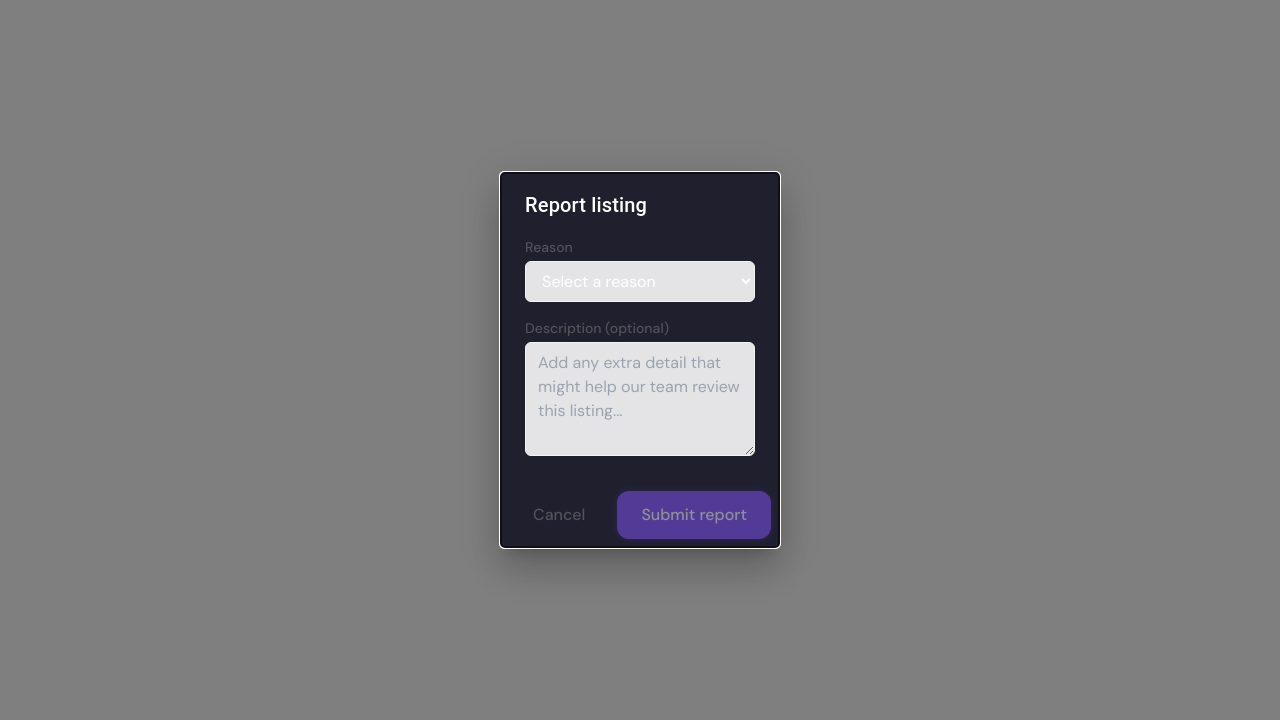
Test: ReportListingDialog › shows the inline success message and a Close button on a successful submit, without auto-closing
Select "Other" in the dropdown labelled "Reason": (640, 282) [525, 261, 755, 302]
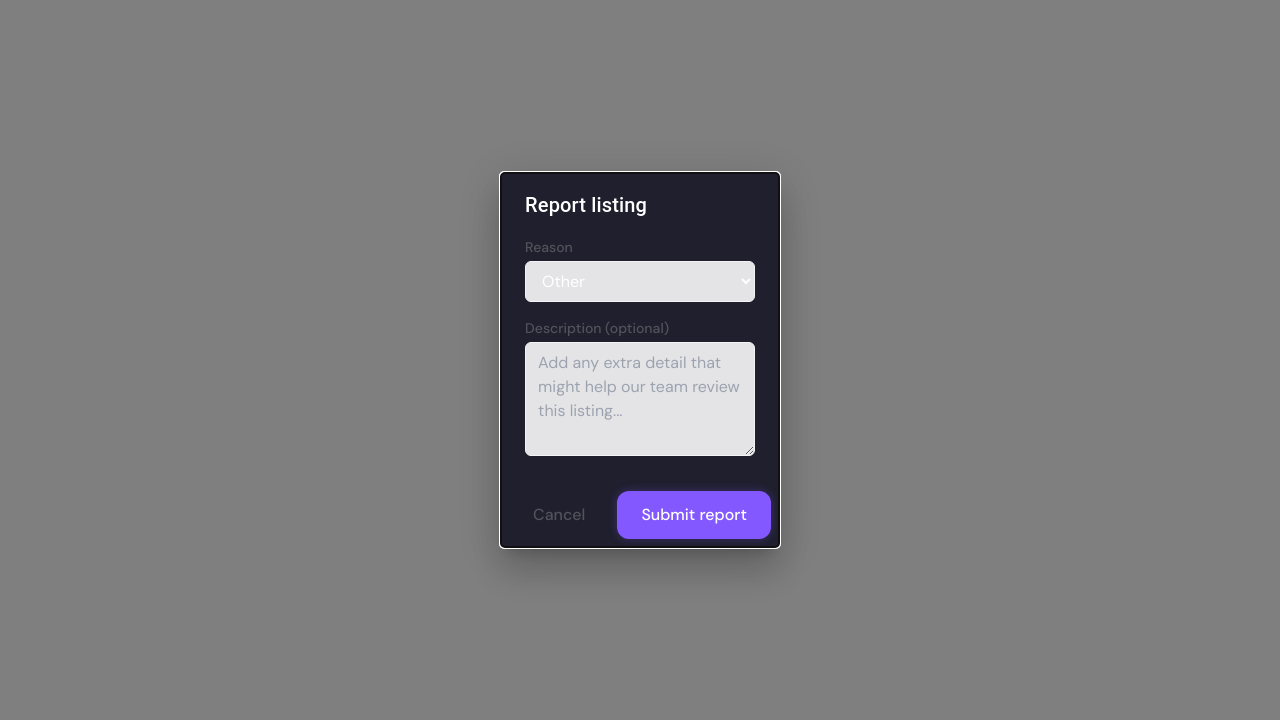
Click the button "Submit report": (694, 515) [617, 491, 771, 539]
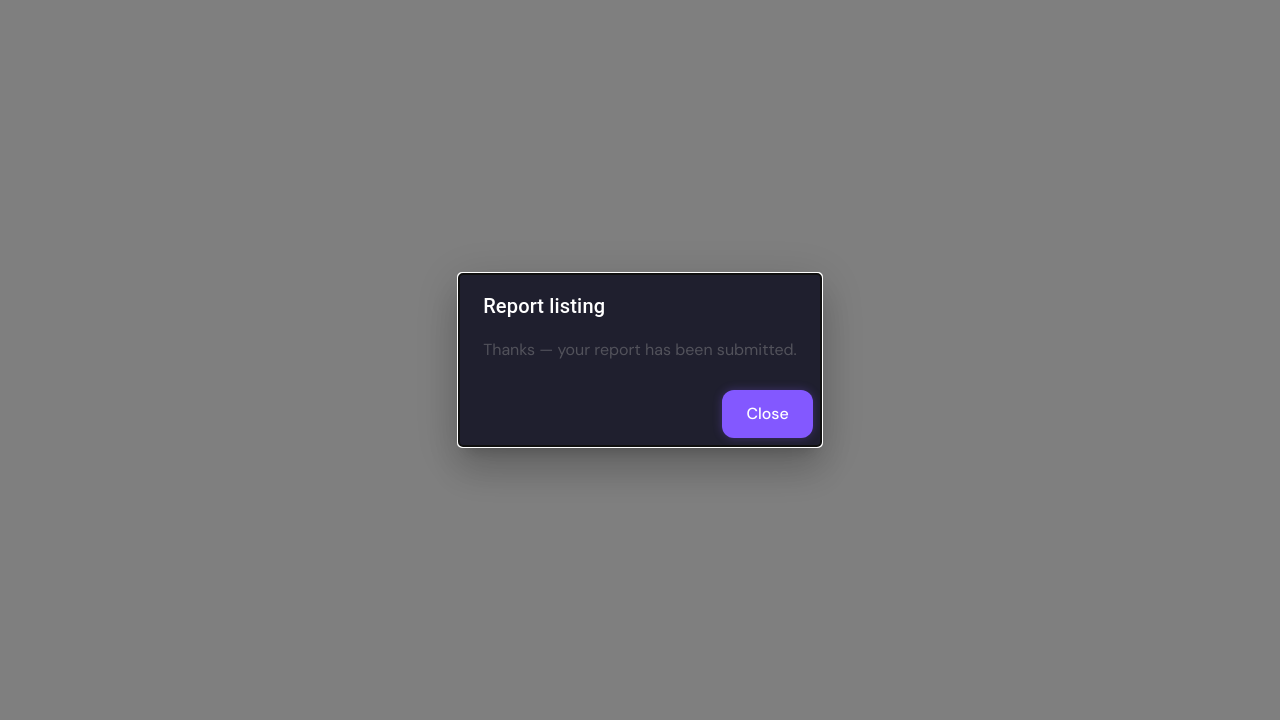
Now the text "Thanks — your report has been submitted." is shown, box [483, 338, 797, 362]
Now the button "Close" is shown, box [722, 390, 813, 438]
